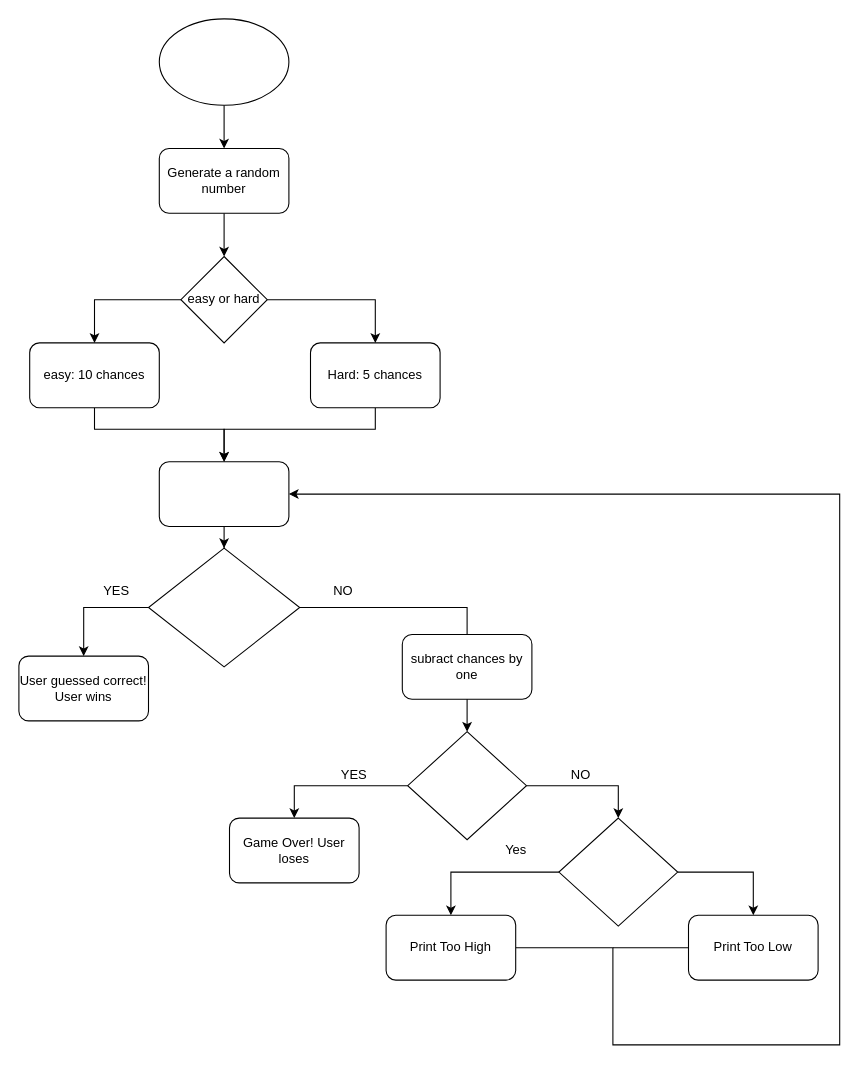
Some shapes in this 867 by 1072 pixel diagram are drawn without their labels. Each missing label, with the box of its shape:
if chances exhasted: (407, 731, 526, 840)
if number > random number: (558, 817, 678, 926)
if user number = random number: (147, 547, 300, 667)
start: (158, 18, 289, 105)
Take input from user.: (158, 461, 289, 526)
